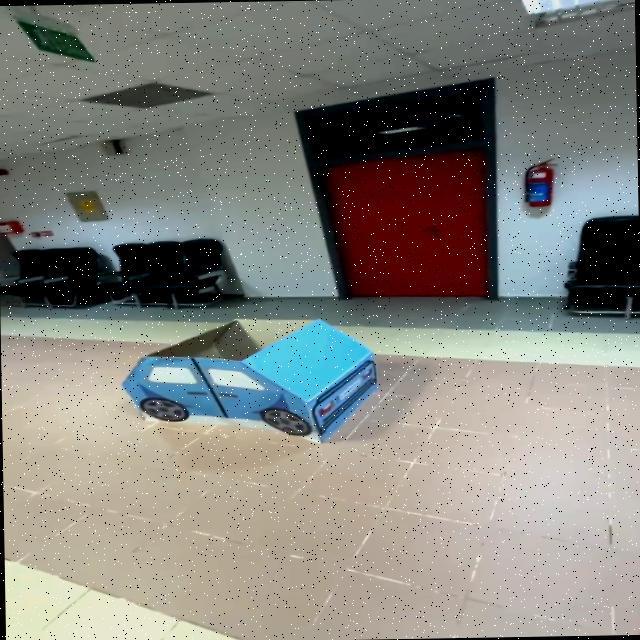blue_car: (100, 306, 398, 455)
